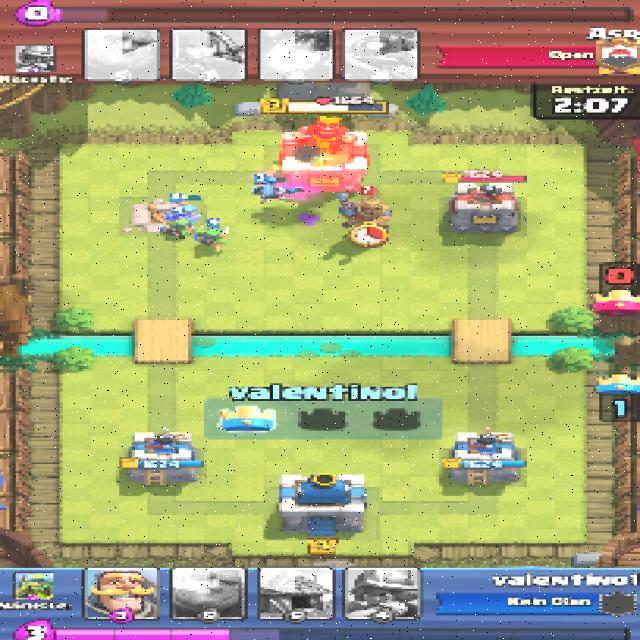Enemy-Prince: (338, 194, 390, 231)
Player-Minion: (252, 182, 283, 201)
Player-SpearGoblin: (195, 226, 231, 248), (161, 220, 197, 238), (168, 204, 198, 219)
